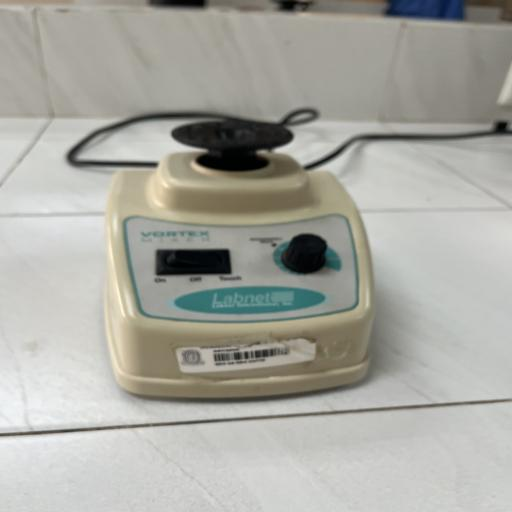Vortex_Mixer_LabNet: (64, 90, 408, 412)
